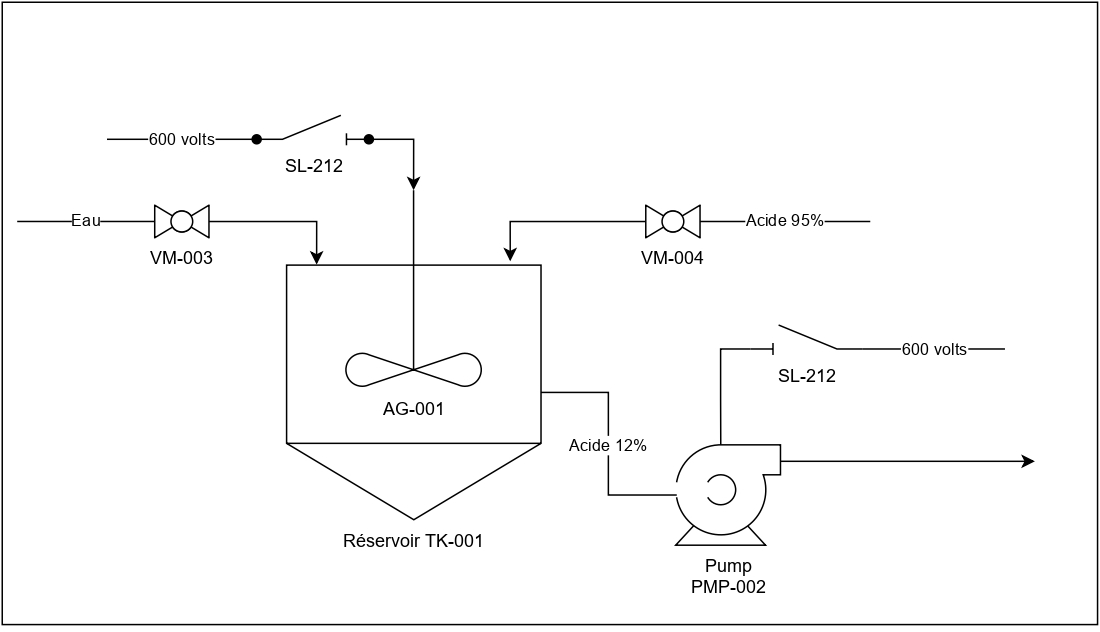valve: (146, 196, 218, 244), (640, 200, 708, 246)
